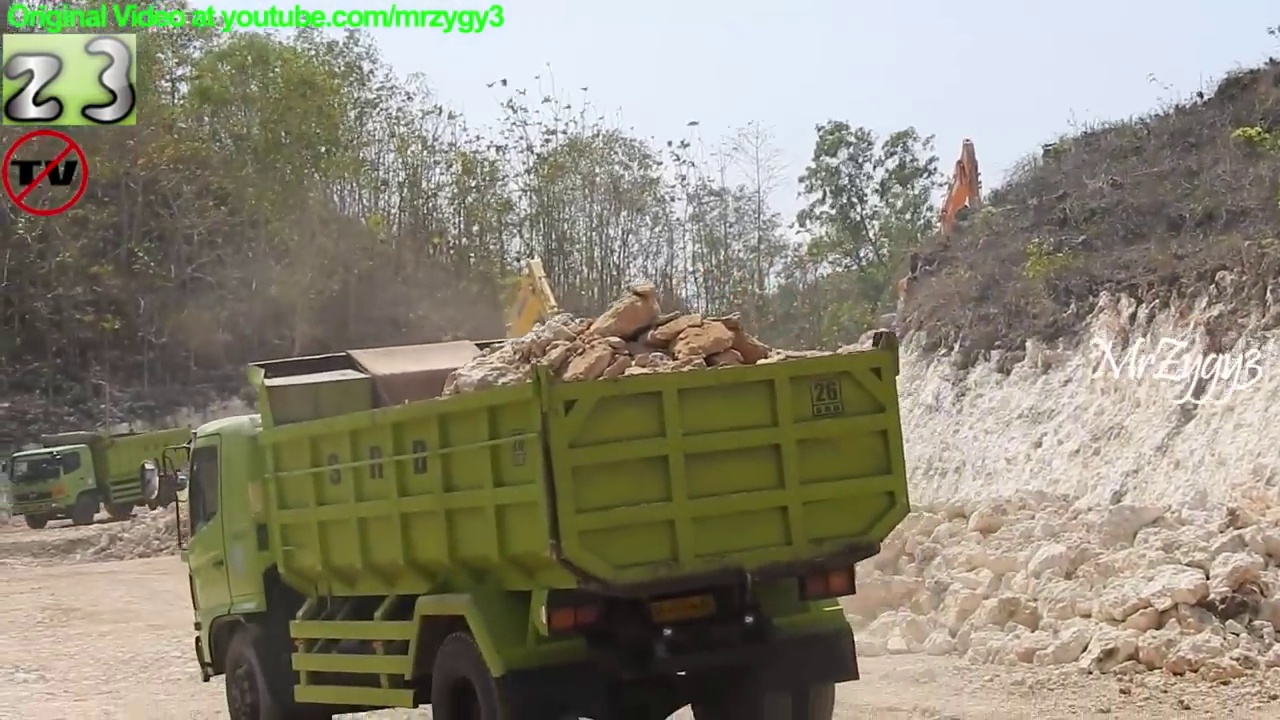excavator: (919, 134, 1006, 288)
truck: (137, 326, 917, 720), (3, 420, 196, 531)
